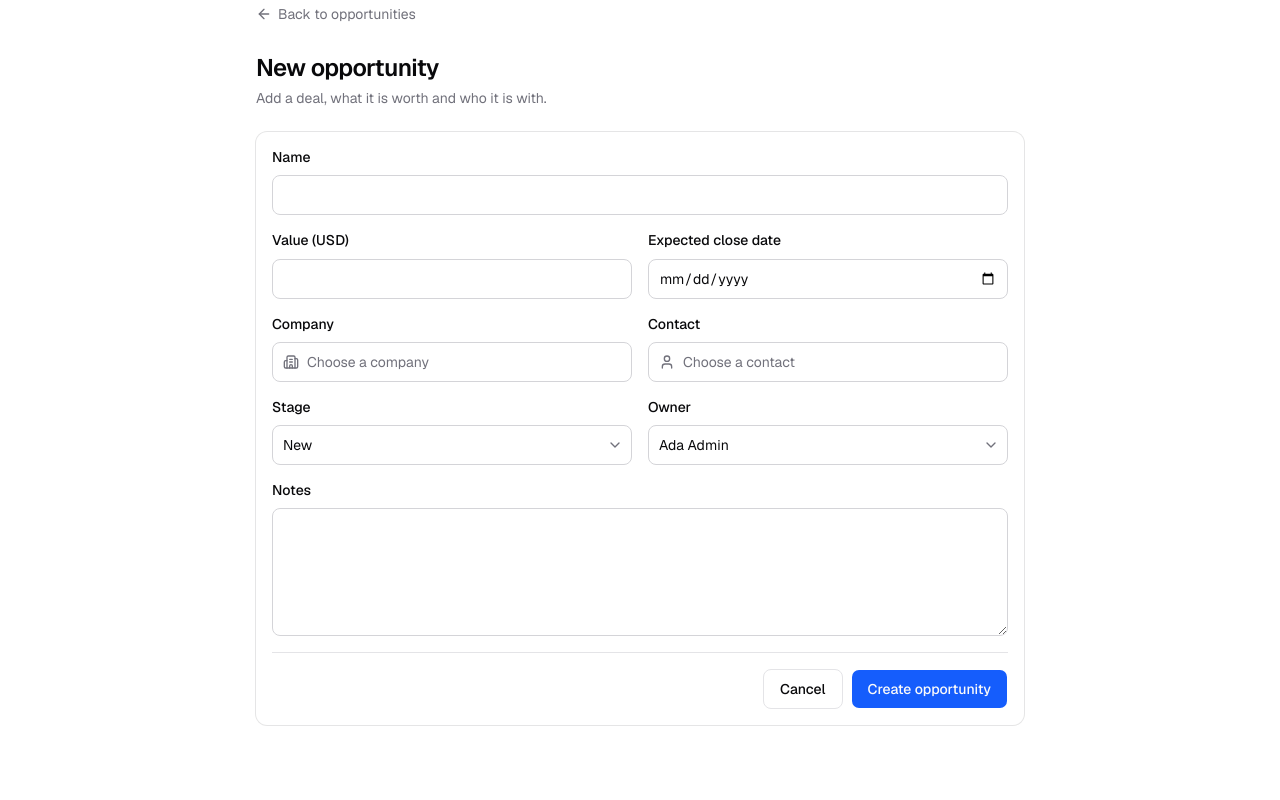
it: NewOpportunityPage › shows each contact's company in the contact picker
The width and height of the screenshot is (1280, 800).
Expected: the field labelled "Name" is shown, [272,175,1008,215]
Click the button with aria-label "Contact: none".
click(739, 362)  # box [648,342,1008,382]
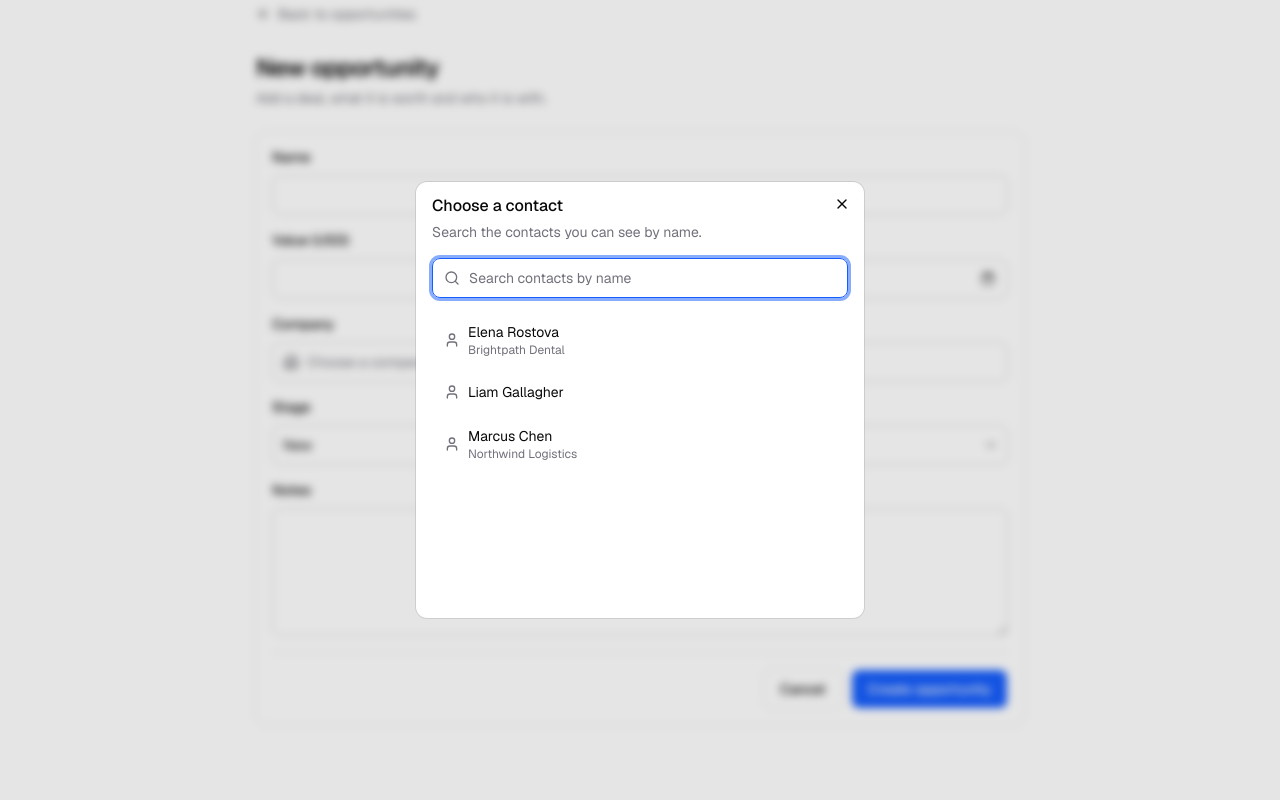
Now the button "Marcus Chen Northwind Logistics" is shown, box [432,418,848,470]
